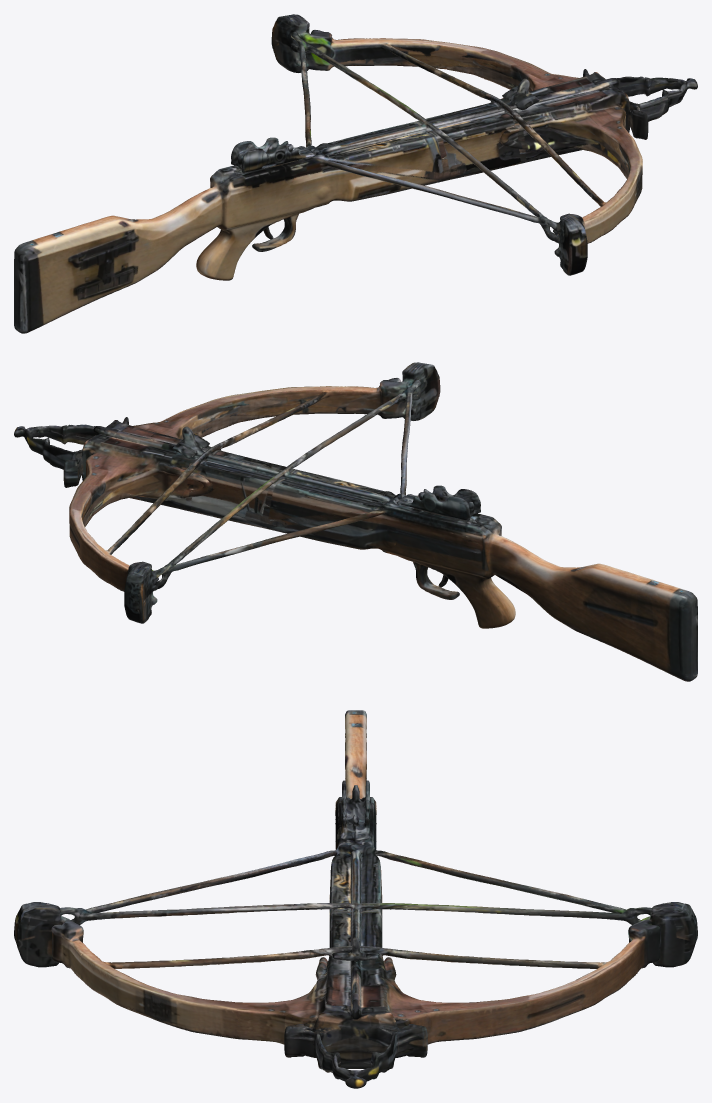
File: crossbow_0301000021_texture.fbx
3 renders of one model, top to bottom at view 1: azimuth 30°, elevation 25°; view 2: azimuth 150°, elevation 25°; view 3: azimuth 270°, elevation 25°, orthographic. The views are drawn at different scales.
Visible parts, largest first — view 1: Mesh1_Mesh1.034; view 2: Mesh1_Mesh1.034; view 3: Mesh1_Mesh1.034.
Boxes of the visible parts, x1=… form: Mesh1_Mesh1.034: x1=14, y1=14, x2=697, y2=333; Mesh1_Mesh1.034: x1=14, y1=362, x2=697, y2=681; Mesh1_Mesh1.034: x1=14, y1=710, x2=697, y2=1088.
Size of the model in its own units: 201 by 36.85 by 153.
Materials: 1 (1 with a texture image).
